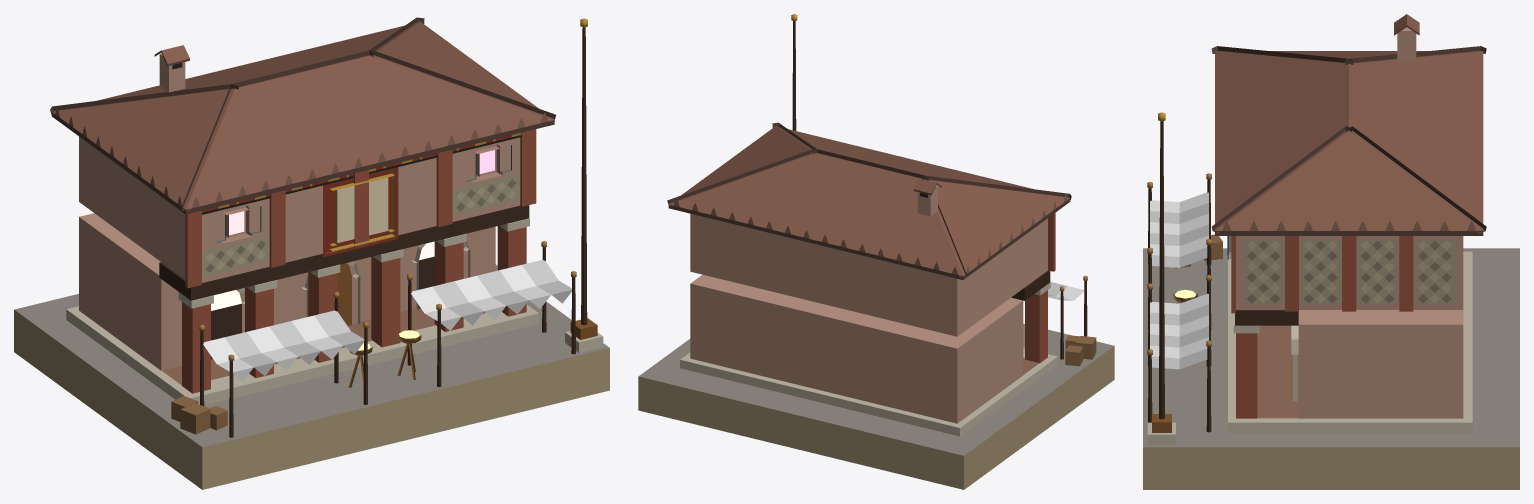
File: harbour-office-polygon.glb
3 renders of one model, left to right at view 1: azimuth 30°, elevation 25°; view 2: azimuth 150°, elevation 25°; view 3: azimuth 270°, elevation 25°, orthographic. The views are drawn at different scales.
Parts seen in each view (by area): view 1: office_body, awning, crest_panel, office_body_windows; view 2: office_body; view 3: office_body, awning.
Boxes of the visible parts, <box> form: office_body: <box>14,17,609,489</box>; awning: <box>203,259,571,381</box>; crest_panel: <box>337,177,388,243</box>; office_body_windows: <box>211,150,494,310</box>; office_body: <box>638,14,1114,489</box>; office_body: <box>1143,14,1519,489</box>; awning: <box>1150,192,1208,369</box>.
Size of the model in its own units: 20 by 17.32 by 16.
